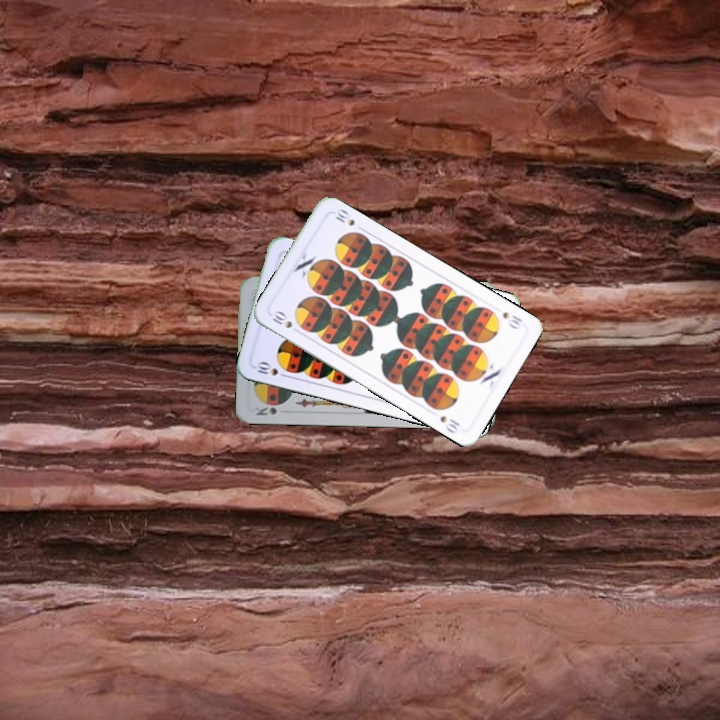S10: (268, 307, 303, 335), (251, 358, 291, 380), (498, 308, 525, 332)
SK: (251, 403, 279, 418)
